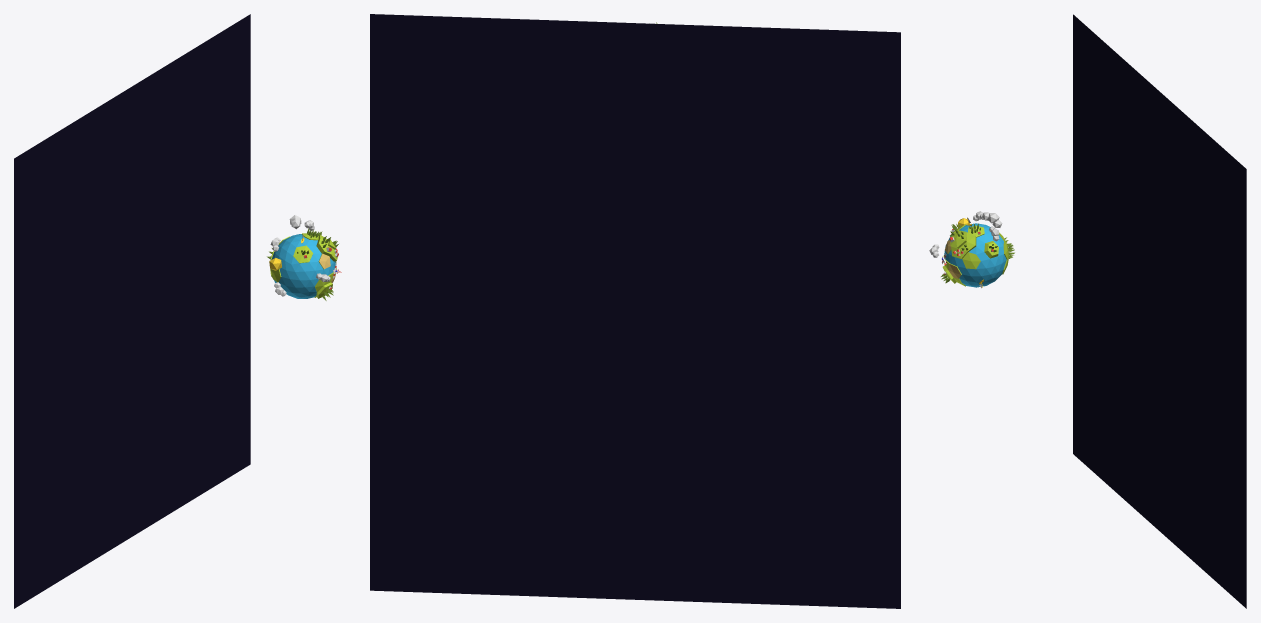
The model's file is 041-nanoplanet.glb.
3 renders of one model, left to right at view 1: azimuth 30°, elevation 25°; view 2: azimuth 150°, elevation 25°; view 3: azimuth 270°, elevation 25°, orthographic. The views are drawn at different scales.
Visible parts, largest first — view 1: Plane.067, Icosphere.001, Icosphere; view 2: Plane.067; view 3: Plane.067, Icosphere.001, Icosphere.
Boxes of the visible parts, x1=… form: Plane.067: x1=14, y1=14, x2=250, y2=608; Icosphere.001: x1=271, y1=234, x2=335, y2=298; Icosphere: x1=270, y1=233, x2=337, y2=298; Plane.067: x1=370, y1=14, x2=900, y2=608; Plane.067: x1=1073, y1=14, x2=1246, y2=608; Icosphere.001: x1=944, y1=223, x2=1006, y2=287; Icosphere: x1=942, y1=224, x2=1008, y2=286.
Size of the model in its own units: 11.58 by 15.31 by 10.01.
